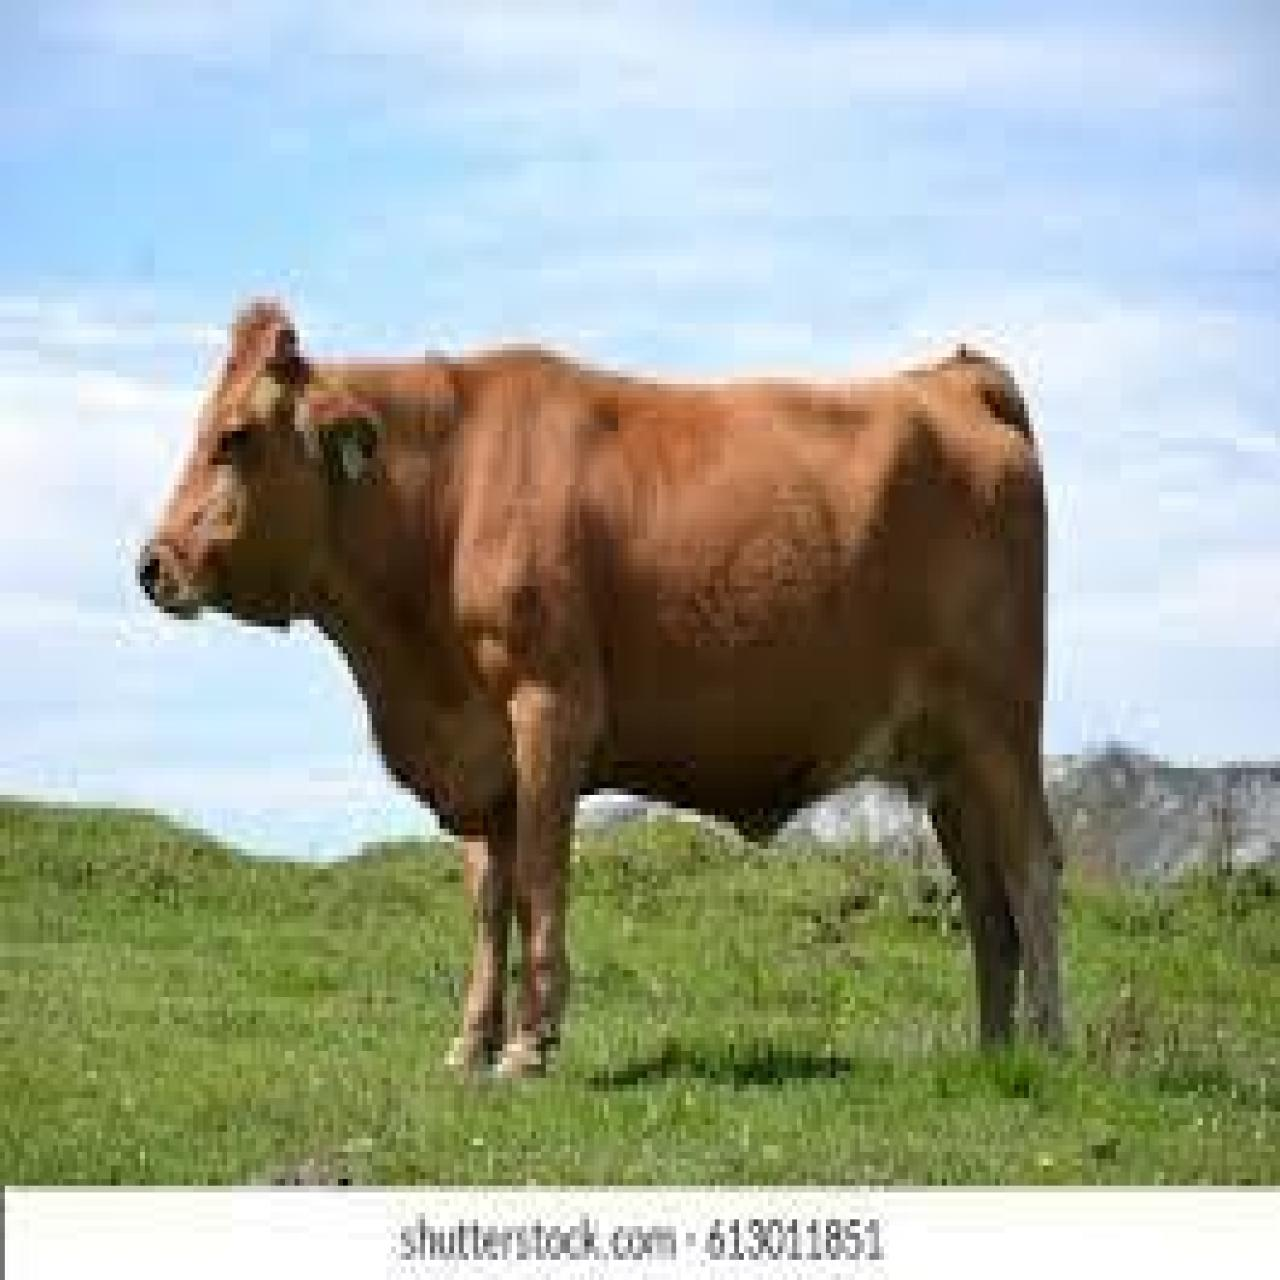cow: (138, 307, 1065, 1081)
